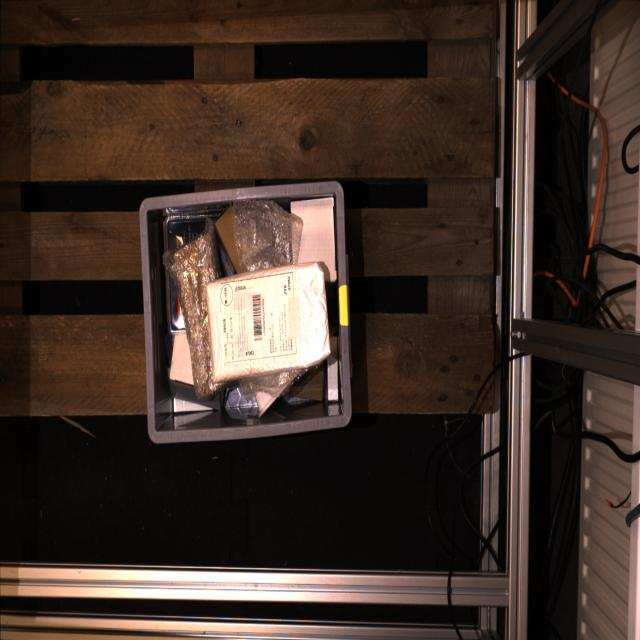BoxInsideWrap: (174, 235, 216, 396)
CardboardBox: (169, 330, 220, 409), (291, 197, 336, 281), (215, 206, 245, 273), (289, 364, 326, 401), (327, 336, 338, 401), (173, 397, 213, 412)
ItemPackaging: (168, 220, 204, 250), (170, 279, 184, 331)
Package: (206, 262, 332, 385)
PackagingAirBags: (233, 200, 302, 273)
PlasticContainer: (255, 391, 276, 416)
